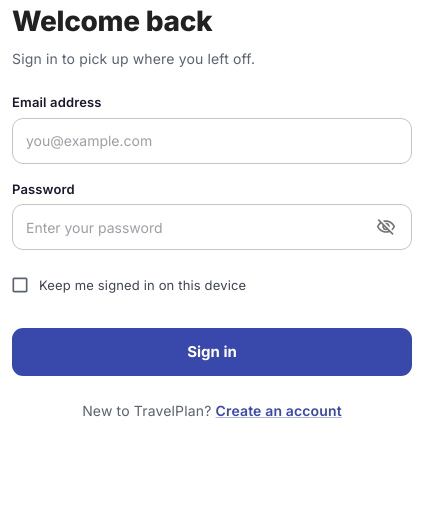
Test: SignInForm › shows a connection message when the request fails without a response
The image size is (429, 527).
Type "maya@example.com" into the field labelled "Email address".
click(212, 141); type("maya@example.com")  # box [12,118,412,164]
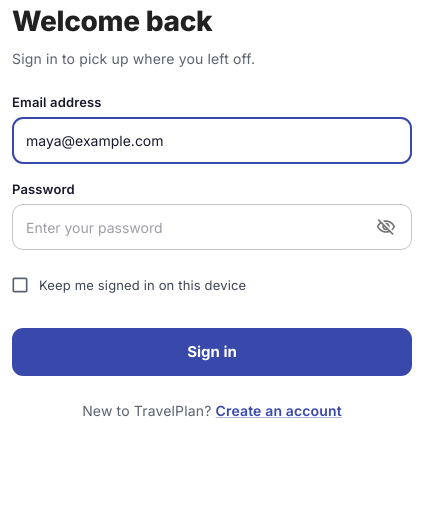
Type "secret123" into the password field labelled "Password".
click(188, 227); type("secret123")  # box [12,204,363,250]
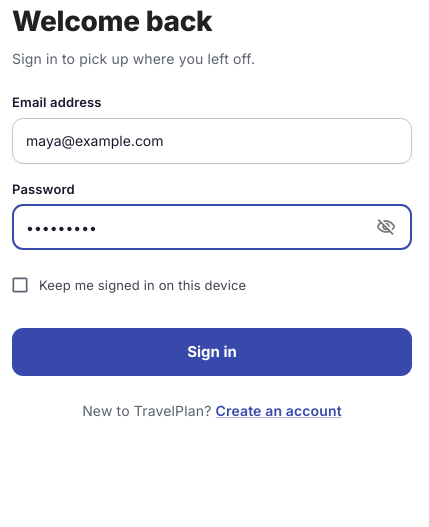
Click the button "Sign in".
click(212, 352)  # box [12,328,412,376]
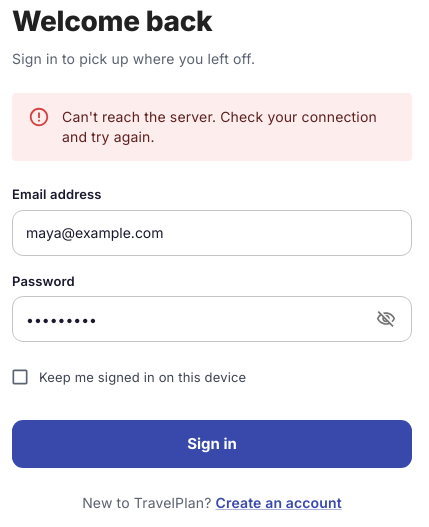
Check: the message shows "Can't reach the server", box [62,108,377,145]
